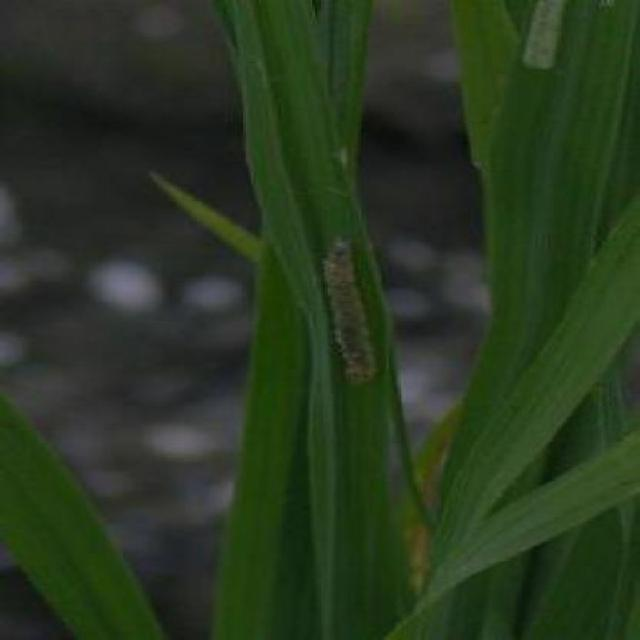leaf-folder: (289, 217, 431, 397)
